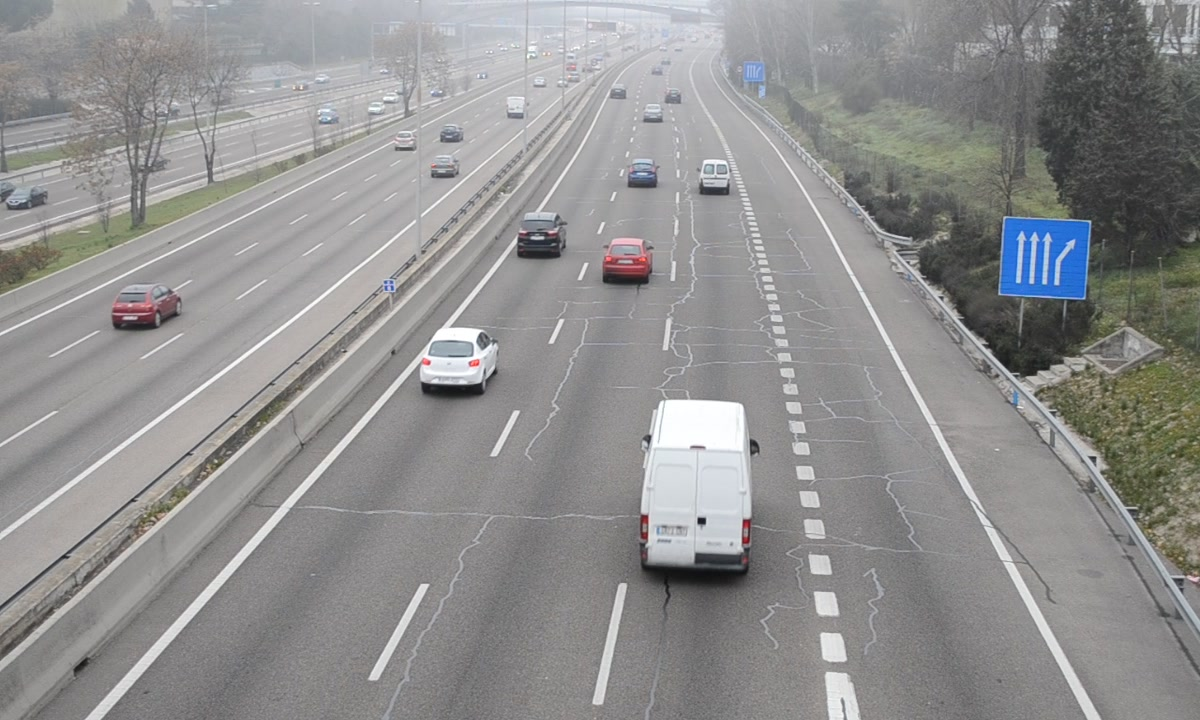car: (420, 327, 500, 386), (516, 212, 566, 255), (602, 237, 650, 280), (626, 158, 659, 188)
van: (638, 401, 753, 576), (699, 159, 732, 196)
